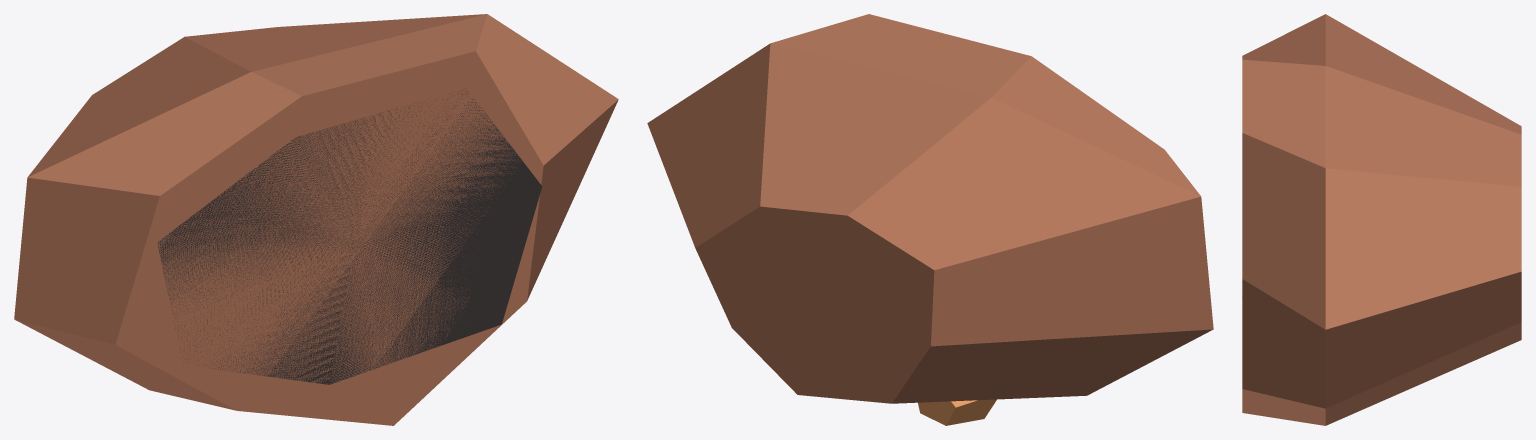
Rendered from CrashBasinRockB.fbx.
3 renders of one model, left to right at view 1: azimuth 30°, elevation 25°; view 2: azimuth 150°, elevation 25°; view 3: azimuth 270°, elevation 25°, orthographic. The views are drawn at different scales.
Parts seen in each view (by area): view 1: RockBody, RockFoot; view 2: RockBody, RockAccent; view 3: RockBody.
Boxes of the visible parts, x1,y1,x2,y2 form: RockBody: (14, 14, 618, 425); RockFoot: (157, 90, 542, 384); RockBody: (647, 14, 1213, 403); RockAccent: (918, 399, 996, 425); RockBody: (1242, 14, 1521, 425).
Size of the model in its own units: 254 by 142 by 114.
